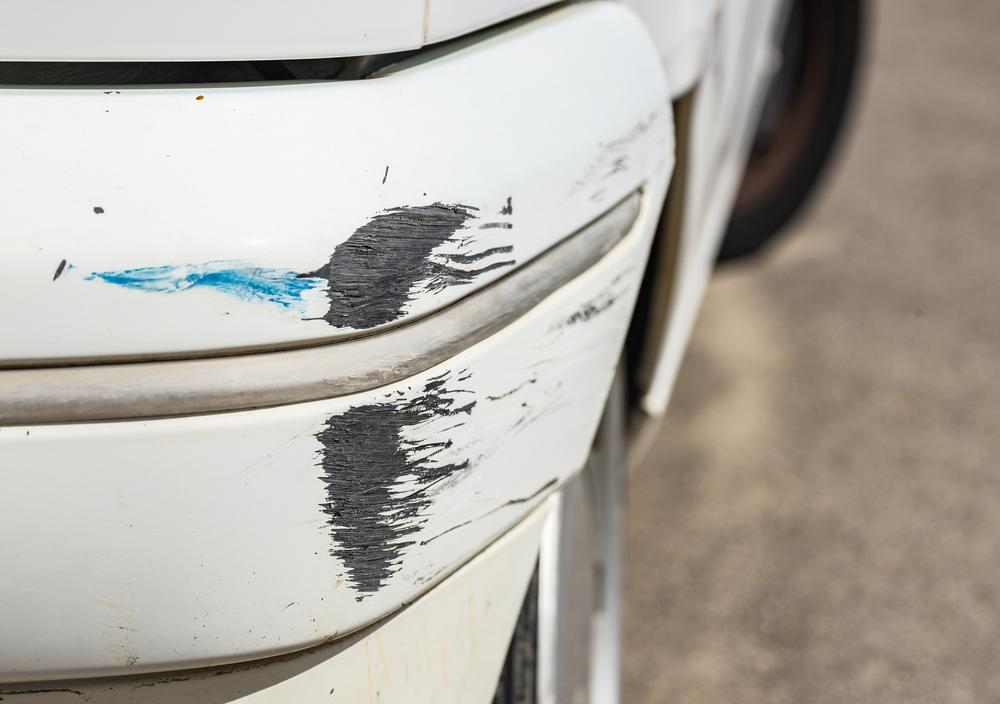scratch: (310, 270, 635, 608), (288, 191, 523, 329)
